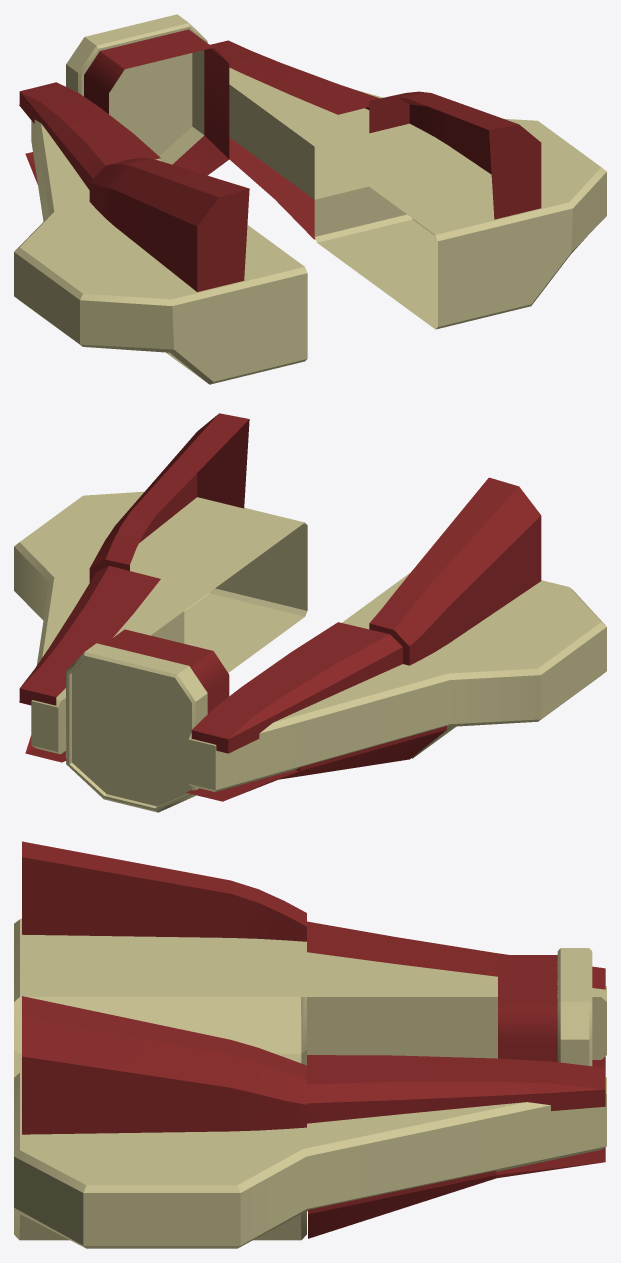
The model's file is spaceshipoutter.fbx.
The picture shows the model from 3 angles, top to bottom: view 1: azimuth 30°, elevation 25°; view 2: azimuth 150°, elevation 25°; view 3: azimuth 270°, elevation 25°; orthographic projection. The views are drawn at different scales.
Visible parts, largest first — view 1: group24_polySurface20; view 2: group24_polySurface20; view 3: group24_polySurface20.
Part boxes in pixels (x1,y1,x2,y2): group24_polySurface20: [14, 14, 606, 384]; group24_polySurface20: [14, 413, 606, 812]; group24_polySurface20: [14, 841, 606, 1248].
Size of the model in its own units: 33.8 by 11.35 by 27.68.
